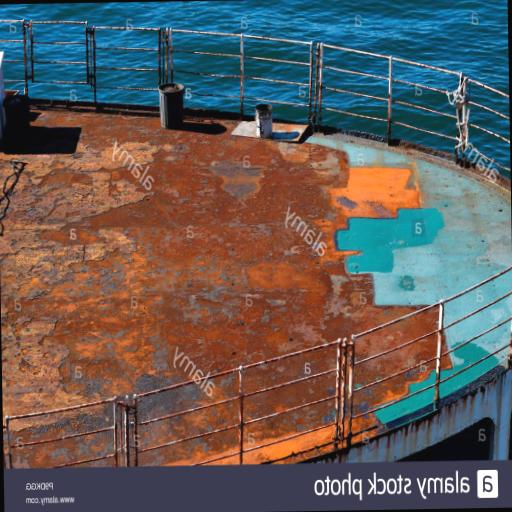corrosion: (0, 99, 455, 469), (304, 111, 511, 202)
